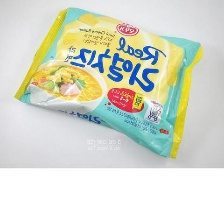snack: (8, 2, 209, 163)
